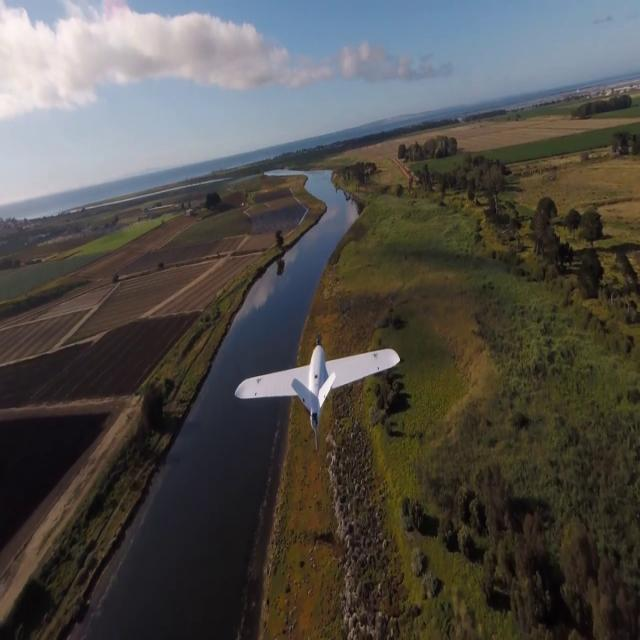iha: (234, 374, 402, 393)
